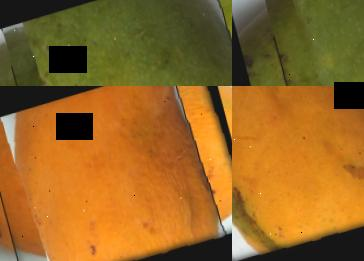Ripe: (0, 86, 232, 261), (232, 86, 364, 261)
Unripe: (0, 0, 232, 86), (254, 0, 364, 86)
